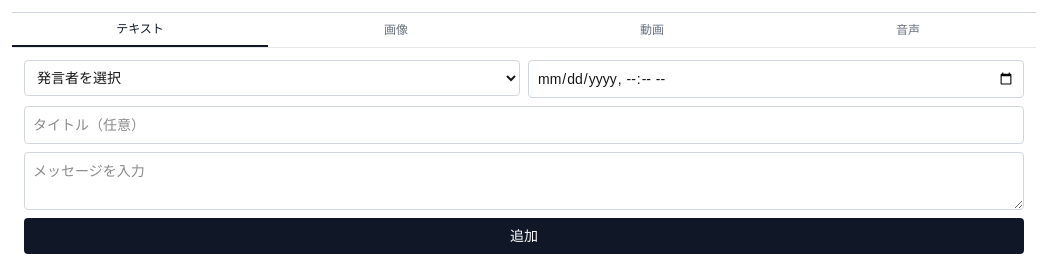
Test case: ChatComposer › hides the file input while pending-media is checked
Click the button "動画".
click(652, 30)  # box [524, 13, 780, 47]
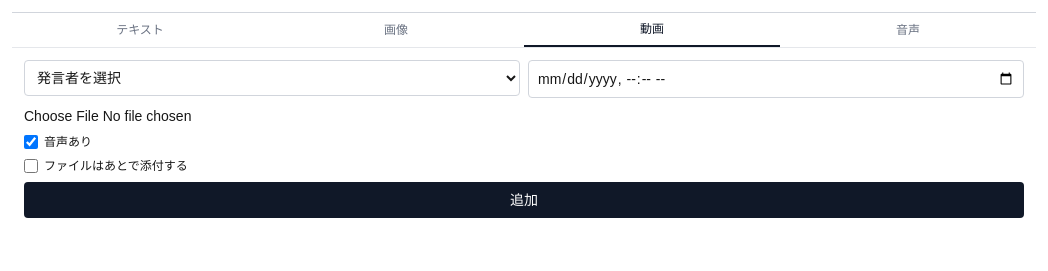
Expected: the file field named "動画ファイル" is shown, [24, 106, 1024, 126]
Click the checkbox labelled "ファイルはあとで添付する".
click(31, 166)  # box [24, 159, 38, 173]
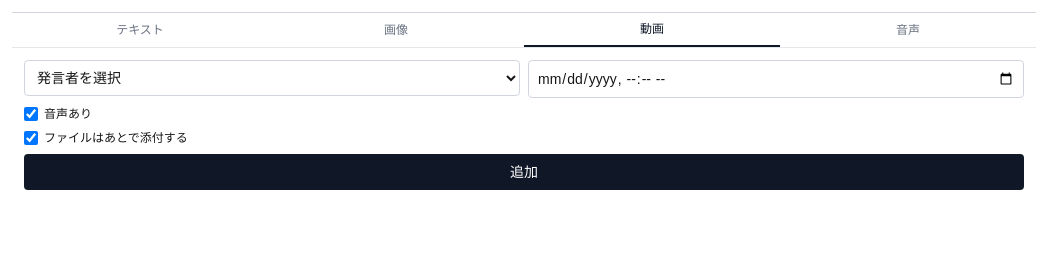
Expected: the form named "recordType" is shown, [12, 48, 1036, 202]
Expected: the file field labelled "動画ファイル" is gone
Click the checkbox labelled "ファイルはあとで添付する".
click(31, 138)  # box [24, 131, 38, 145]
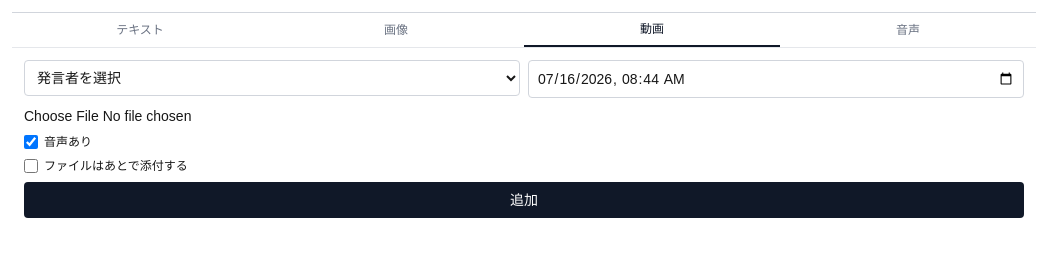
Expected: the file field named "動画ファイル" is shown, [24, 106, 1024, 126]
